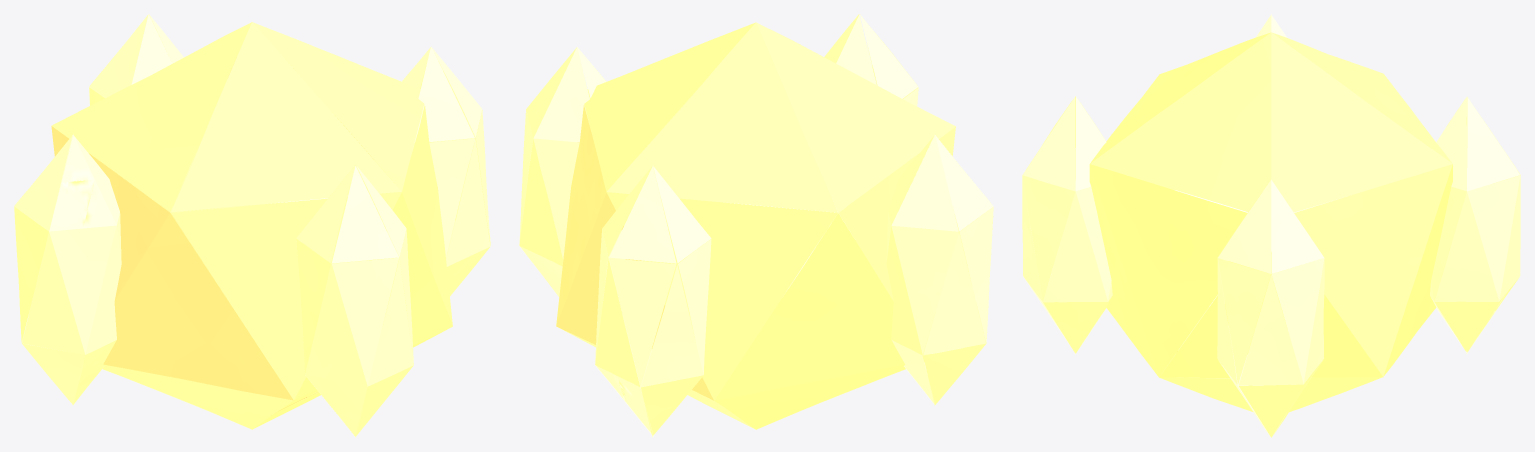
File: fireball.glb
3 renders of one model, left to right at view 1: azimuth 30°, elevation 25°; view 2: azimuth 150°, elevation 25°; view 3: azimuth 270°, elevation 25°, orthographic. The views are drawn at different scales.
Visible parts, largest first — view 1: FireballShell; view 2: FireballShell; view 3: FireballShell.
Part boxes in pixels (left/top/right/bottom): FireballShell: left=14, top=14, right=490, bottom=437; FireballShell: left=519, top=14, right=993, bottom=437; FireballShell: left=1022, top=14, right=1520, bottom=437.
Bounding box in the file's own units: 0.5662 × 0.4791 × 0.5605.
